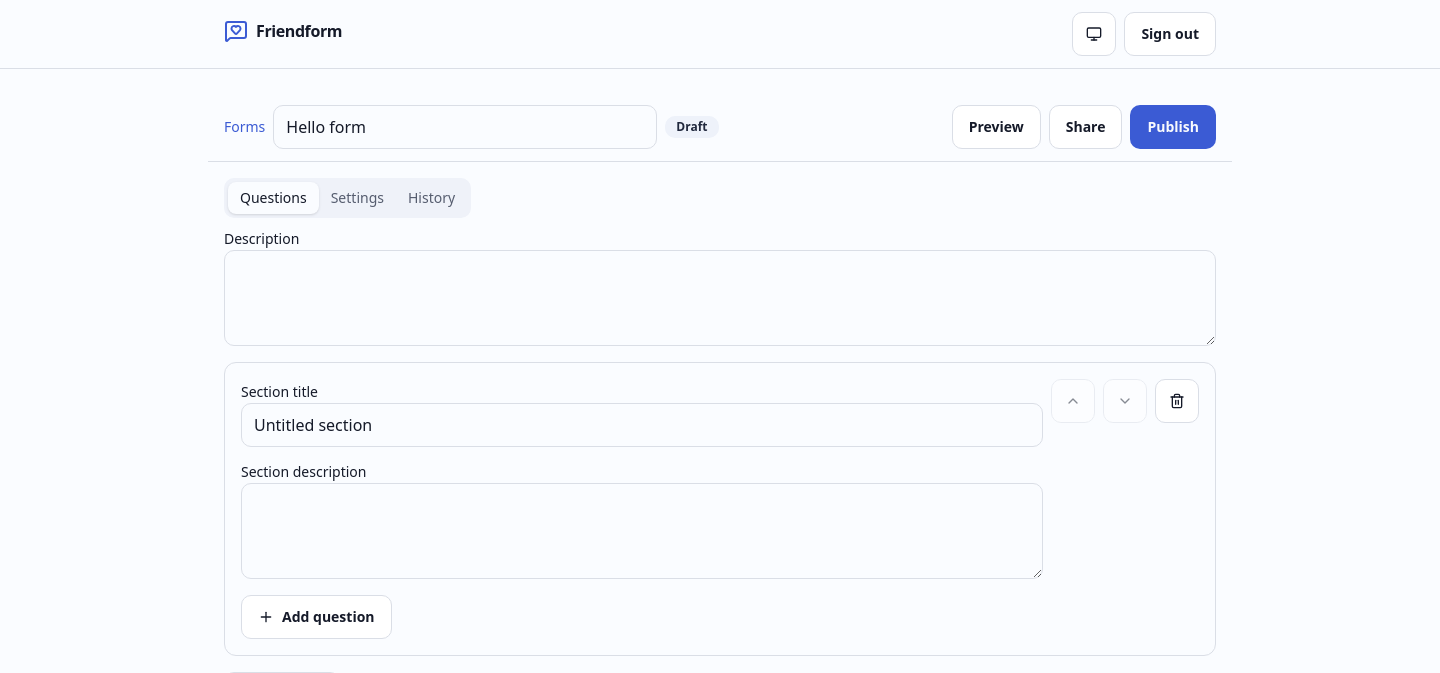
Test: SettingsTab › shows the slug format message when the slug returns 400
The width and height of the screenshot is (1440, 673).
Click the tab "Settings": (357, 198) top-left (319, 182), bottom-right (396, 214)
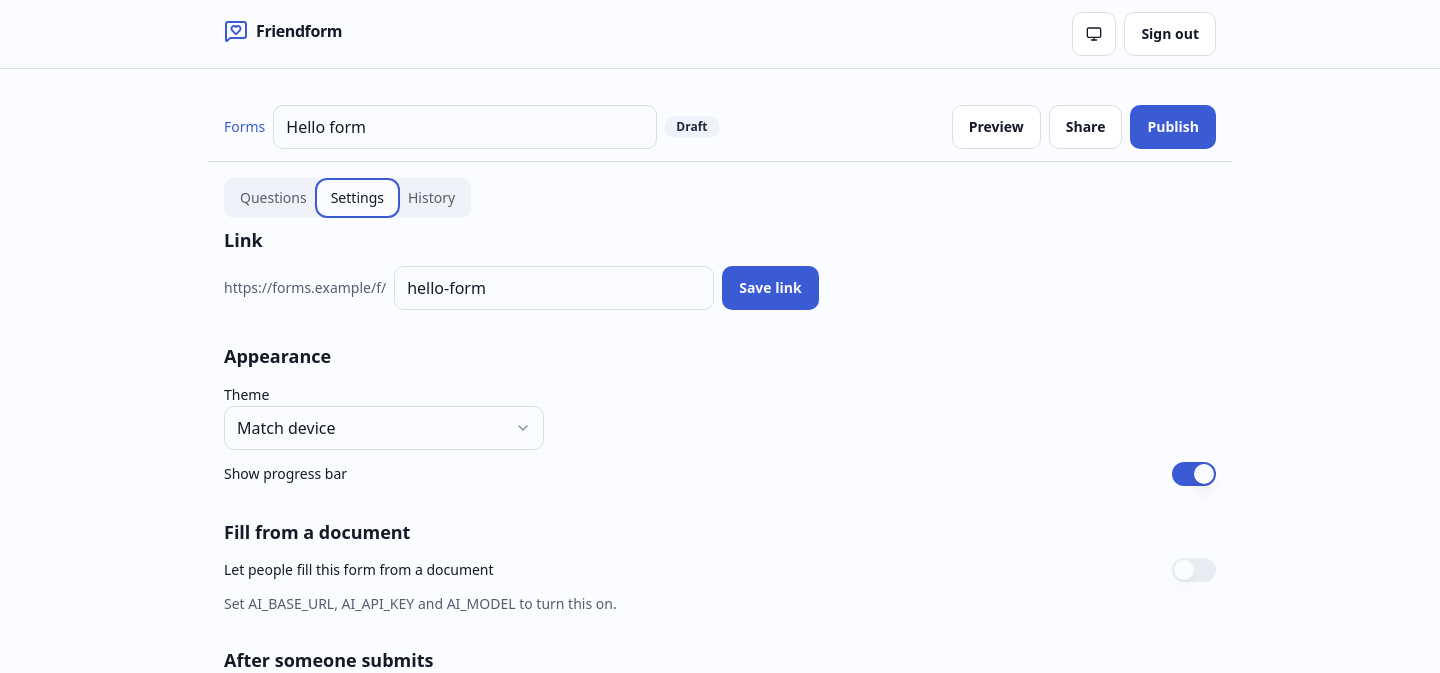
Replace the text in the field named "Link" with "Bad Slug": (554, 288) top-left (394, 266), bottom-right (714, 310)
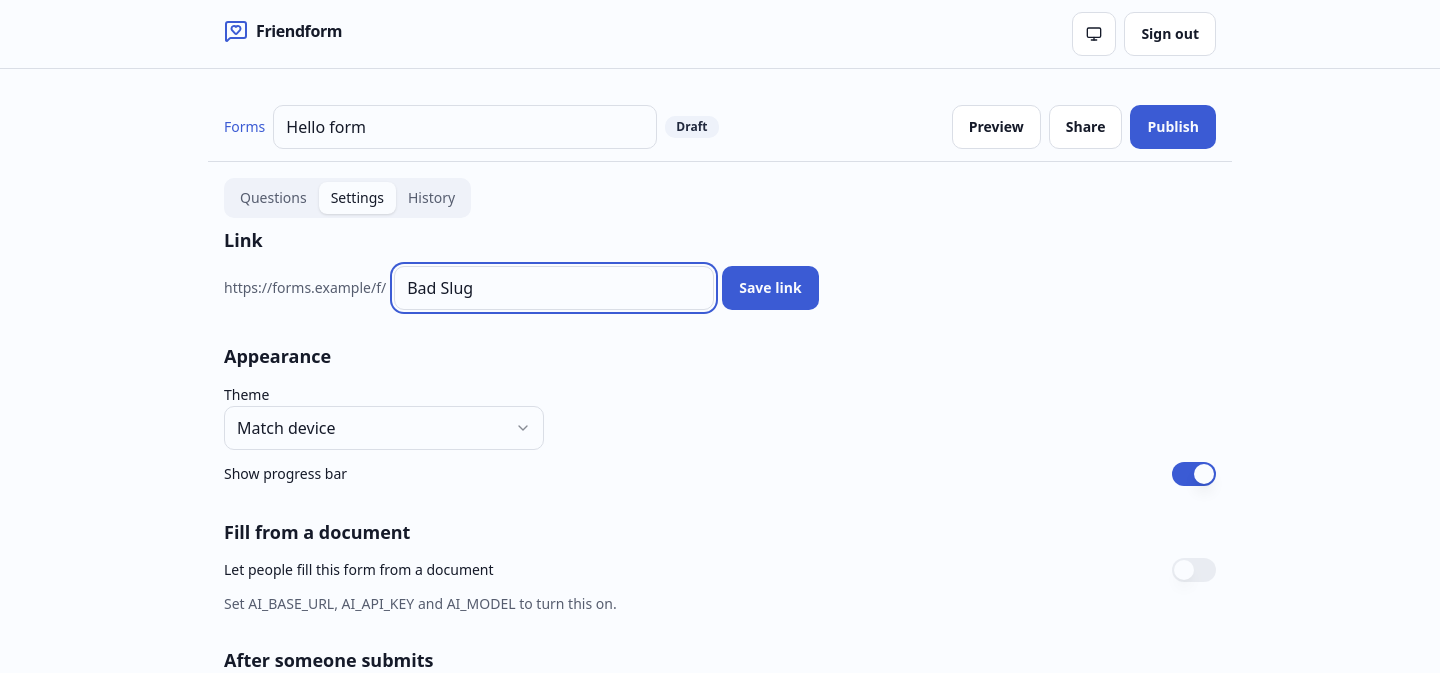
Click the button "Save link": (770, 288) top-left (722, 266), bottom-right (819, 310)
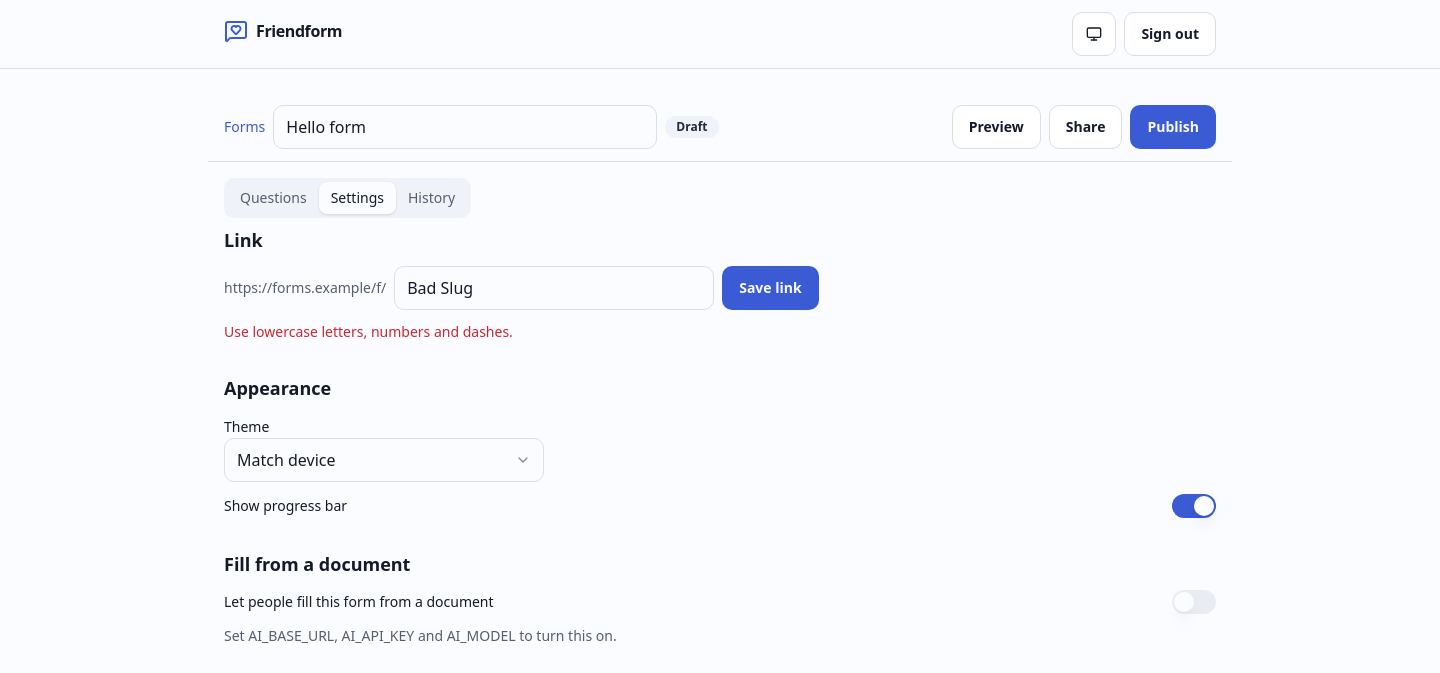
Expected: the text "Use lowercase letters, numbers and dashes." is shown, top-left (224, 322), bottom-right (513, 341)
